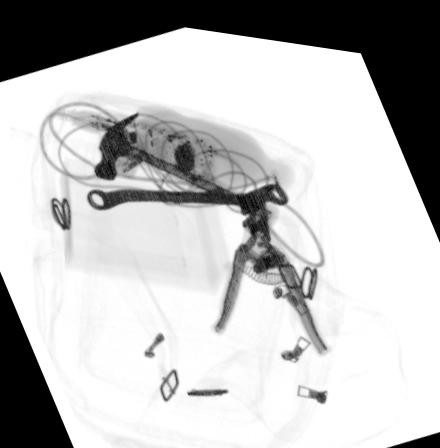Hammer: (93, 106, 260, 205)
Pliers: (207, 184, 335, 350)
Wrench: (87, 176, 287, 208)
